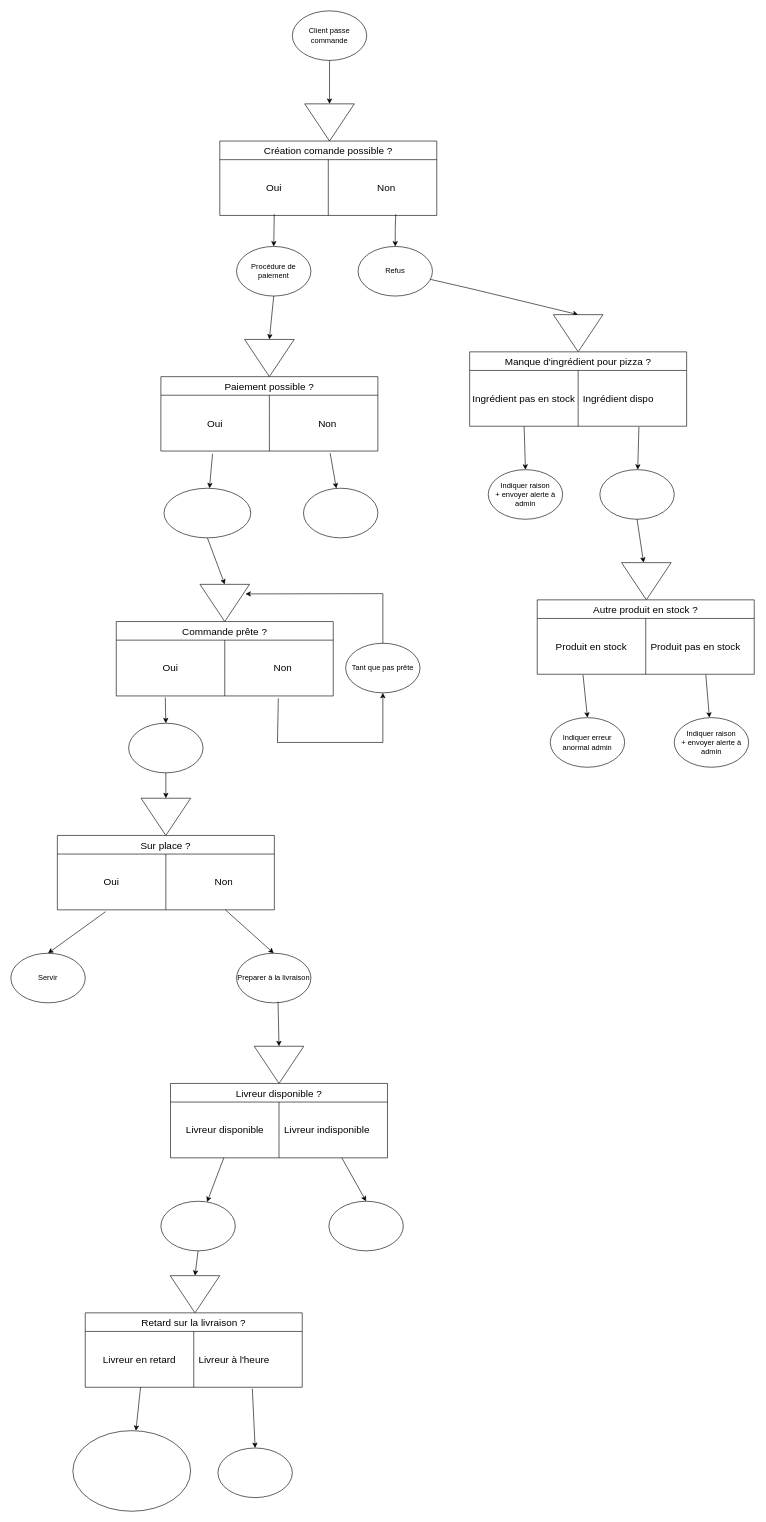
This 766x1522 diagram has some shape labels left out. Each missing label, with the centre of its shape:
"Afficher paiement refuser" goes at (340,513).
"Attendre un livreur" goes at (365,1226).
"indiquer commande prête" goes at (165,748).
"Indiquer livraison en retard + Ajouter bon de réduction de 50% au client" goes at (131,1470).
"Indiquer livraison terminé" goes at (254,1472).
"Livreur récupère adresse et commande" goes at (197,1226).
"Paiement accepter et création de numéro de commande" goes at (207,513).
"Verifier produit" goes at (636,494).
